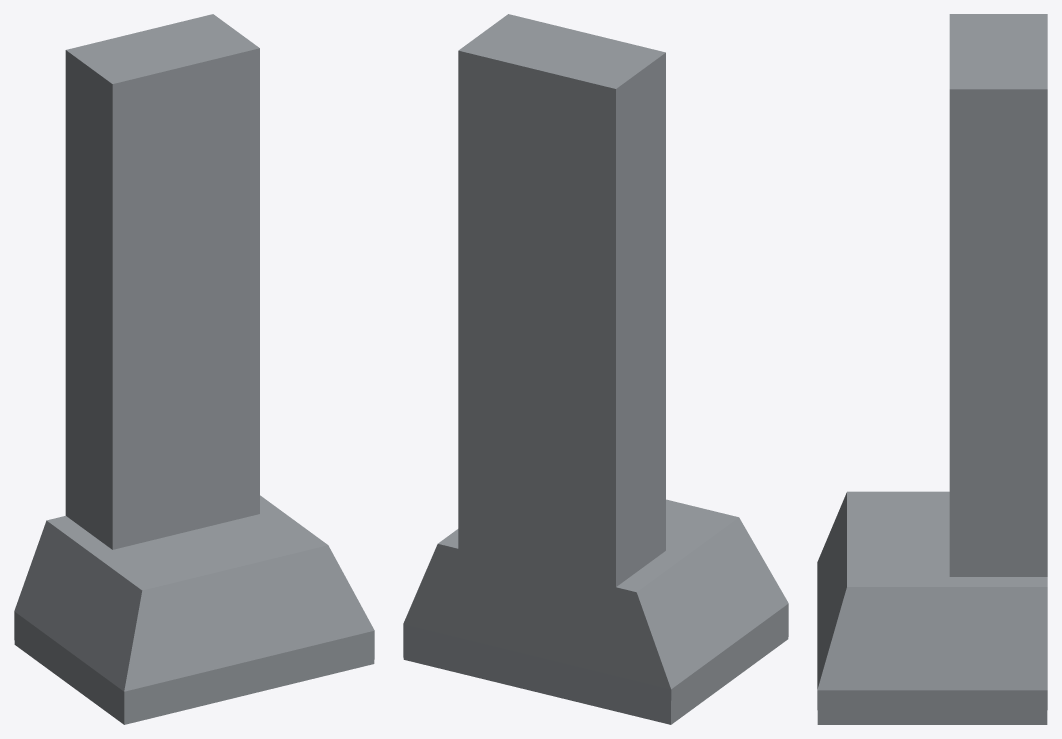
File: Kitchen_Chimney.fbx
The picture shows the model from 3 angles, left to right: view 1: azimuth 30°, elevation 25°; view 2: azimuth 150°, elevation 25°; view 3: azimuth 270°, elevation 25°; orthographic projection. The views are drawn at different scales.
Visible parts, largest first — view 1: polySurface1536; view 2: polySurface1536; view 3: polySurface1536.
Part boxes in pixels (x1,y1,x2,y2): polySurface1536: (14, 14, 374, 724); polySurface1536: (403, 14, 788, 724); polySurface1536: (817, 14, 1047, 724).
Bounding box in the file's own units: 0.9015 × 2 × 0.6851.
Materials: 1 (1 with a texture image).
